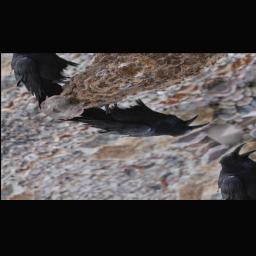Crow: (56, 78, 211, 165)
